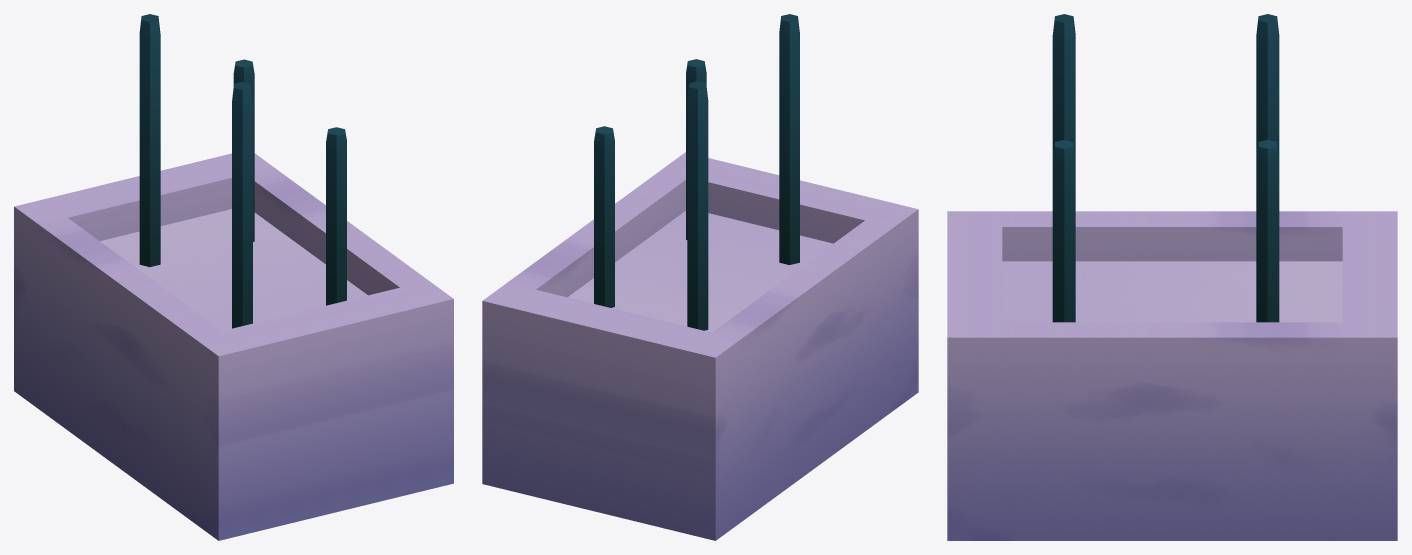
File: NegocioDaLapide.fbx
The picture shows the model from 3 angles, left to right: view 1: azimuth 30°, elevation 25°; view 2: azimuth 150°, elevation 25°; view 3: azimuth 270°, elevation 25°; orthographic projection. The views are drawn at different scales.
Parts seen in each view (by area): view 1: pCylinder5; view 2: pCylinder5; view 3: pCylinder5.
Boxes of the visible parts, bbox=[...] form: pCylinder5: bbox=[14, 14, 453, 540]; pCylinder5: bbox=[482, 14, 918, 540]; pCylinder5: bbox=[947, 14, 1397, 540].
Size of the model in its own units: 0.565 by 0.9126 by 0.8514.
